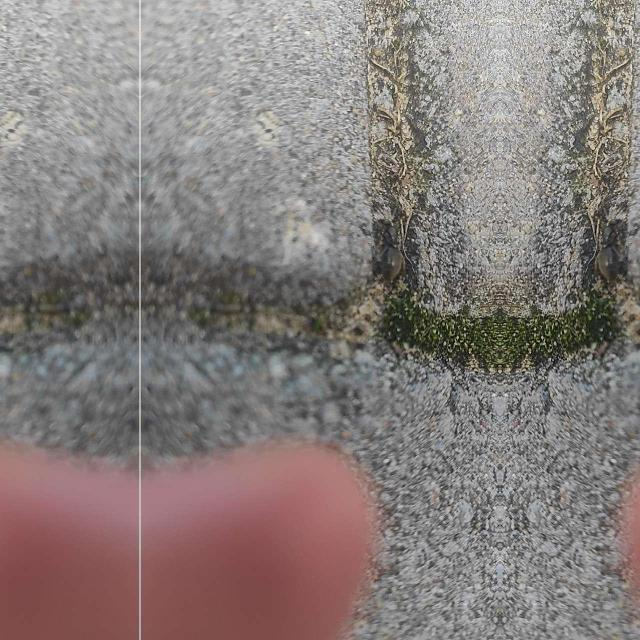Lasius: (369, 209, 408, 289), (592, 209, 630, 289)
